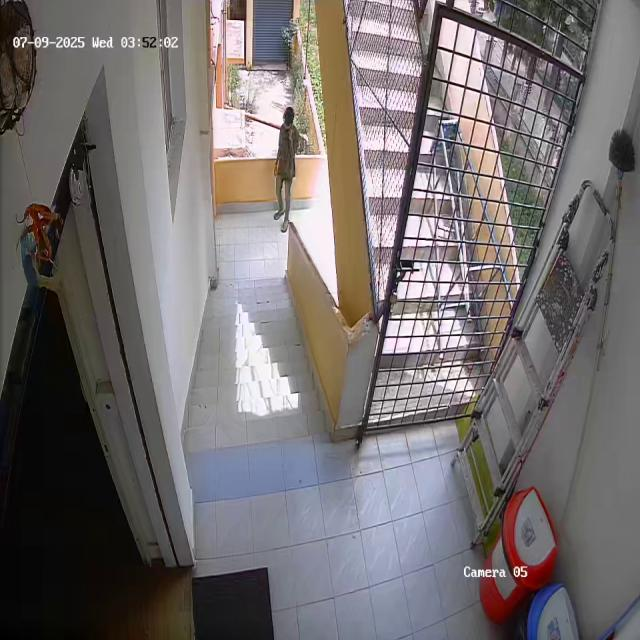person: (266, 104, 300, 231)
